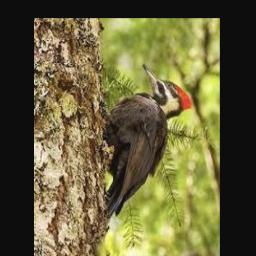Woodpecker: (102, 63, 192, 220)
